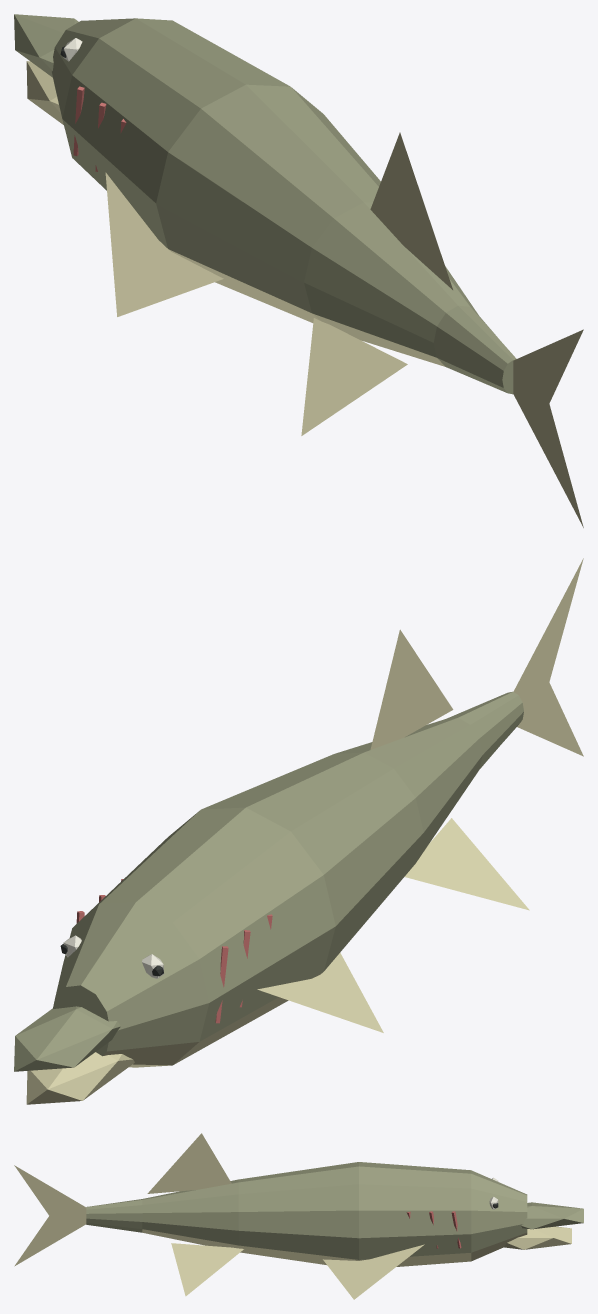
Rendered from OldPike.fbx.
3 views of the same model, one above another, from view 1: azimuth 30°, elevation 25°; view 2: azimuth 150°, elevation 25°; view 3: azimuth 270°, elevation 25° (orthographic). The views are drawn at different scales.
Parts seen in each view (by area): view 1: Body, Pectoral1, Pelvic1, TailFin, RearDorsal, UpperBill, LowerJaw; view 2: Body, UpperBill, RearDorsal, TailFin, Pelvic1, Pectoral1, LowerJaw; view 3: Body, TailFin, RearDorsal, Pectoral-1, Pelvic-1, UpperBill, LowerJaw.
Part boxes in pixels (x1,y1,x2,y2): Body: (52,18,516,394); Pectoral1: (105,172,223,316); Pelvic1: (301,318,407,435); TailFin: (513,329,583,527); RearDorsal: (370,132,452,289); UpperBill: (14,14,78,77); LowerJaw: (26,61,63,124); Body: (53,691,523,1067); UpperBill: (14,1006,120,1071); RearDorsal: (370,629,453,749); TailFin: (513,558,583,756); Pelvic1: (404,818,529,910); Pectoral1: (257,953,383,1032); LowerJaw: (26,1052,134,1104); Body: (86,1162,527,1266); TailFin: (14,1165,86,1266); RearDorsal: (147,1133,231,1193); Pectoral-1: (323,1244,424,1299); Pelvic-1: (171,1243,243,1296); UpperBill: (521,1202,583,1229); LowerJaw: (504,1226,571,1249).
Bounding box in the file's own units: 0.98 × 0.93 × 3.55.
